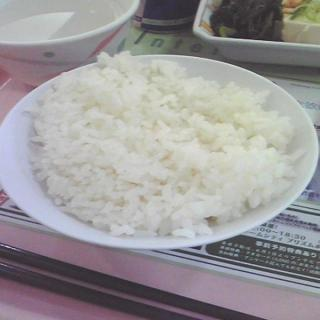Nasi: (22, 49, 306, 239)
